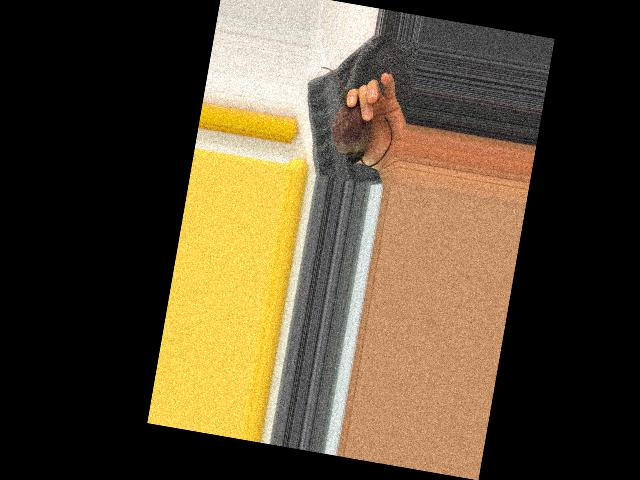beet: (306, 66, 402, 169)
